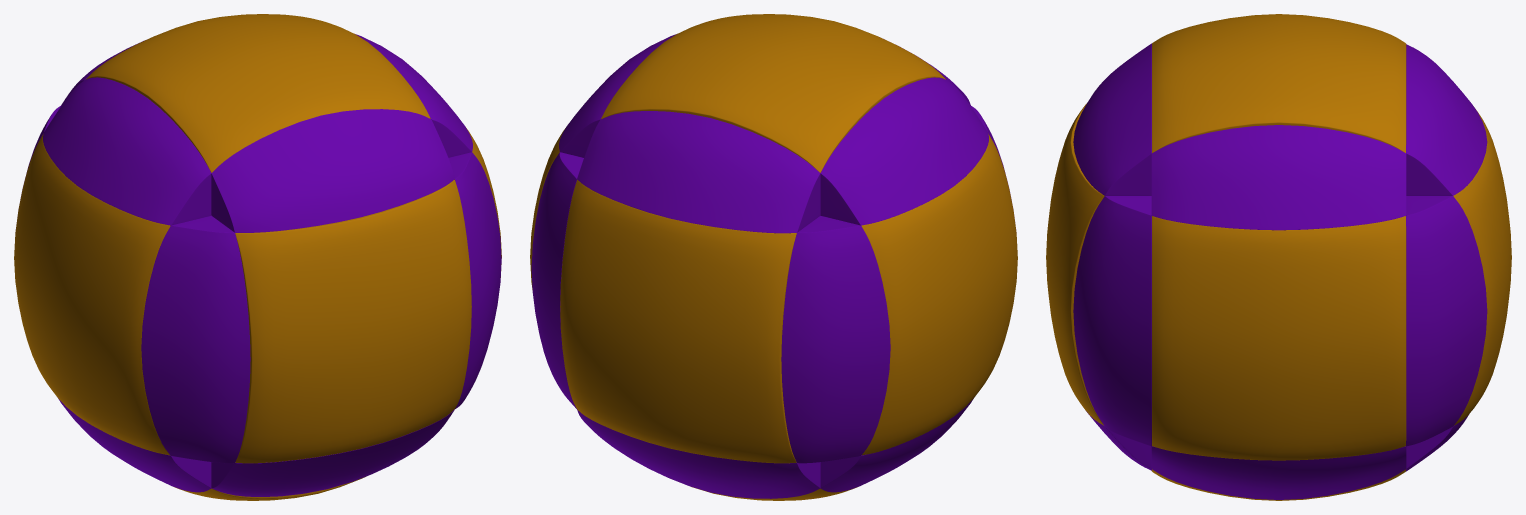
The model's file is BallGeo.fbx.
The picture shows the model from 3 angles, left to right: view 1: azimuth 30°, elevation 25°; view 2: azimuth 150°, elevation 25°; view 3: azimuth 270°, elevation 25°; orthographic projection.
Parts seen in each view (by area): view 1: topHi5, topHi2, topHi1, cornerHi12, cornerHi1, cornerHi8, cornerHi7, cornerHi13, cornerHi10, cornerHi9, topHi6; view 2: topHi4, topHi2, topHi1, cornerHi15, cornerHi5, cornerHi8, cornerHi6, cornerHi14, cornerHi10, cornerHi9, topHi3; view 3: topHi3, topHi1, cornerHi9, cornerHi14, cornerHi13, cornerHi5, cornerHi11, cornerHi1, topHi5, topHi4, cornerHi6, cornerHi7 (+1 smaller).
Boxes of the visible parts, x1,y1,x2,y2 form: topHi5: [235, 179, 471, 463]; topHi2: [14, 134, 170, 455]; topHi1: [86, 14, 430, 172]; cornerHi12: [141, 215, 250, 463]; cornerHi1: [211, 109, 454, 232]; cornerHi8: [43, 77, 211, 225]; cornerHi7: [211, 409, 454, 496]; cornerHi13: [448, 152, 501, 408]; cornerHi10: [57, 397, 211, 492]; cornerHi9: [355, 34, 472, 157]; topHi6: [174, 476, 365, 500]; topHi4: [560, 180, 796, 463]; topHi2: [861, 134, 1017, 455]; topHi1: [601, 14, 945, 172]; cornerHi15: [781, 215, 890, 463]; cornerHi5: [577, 111, 820, 233]; cornerHi8: [820, 77, 988, 225]; cornerHi6: [577, 409, 820, 498]; cornerHi14: [531, 152, 583, 408]; cornerHi10: [820, 397, 974, 492]; cornerHi9: [559, 34, 676, 157]; topHi3: [530, 128, 565, 289]; topHi3: [1152, 216, 1406, 460]; topHi1: [1152, 14, 1406, 152]; cornerHi9: [1151, 125, 1406, 230]; cornerHi14: [1406, 196, 1487, 446]; cornerHi13: [1073, 196, 1151, 446]; cornerHi5: [1406, 44, 1487, 195]; cornerHi11: [1151, 446, 1406, 499]; cornerHi1: [1073, 43, 1151, 195]; topHi5: [1046, 103, 1104, 425]; topHi4: [1453, 110, 1511, 425]; cornerHi6: [1406, 414, 1469, 471]; cornerHi7: [1086, 411, 1151, 470].
Bounding box in the file's own units: 73.15 × 73.15 × 73.15.
